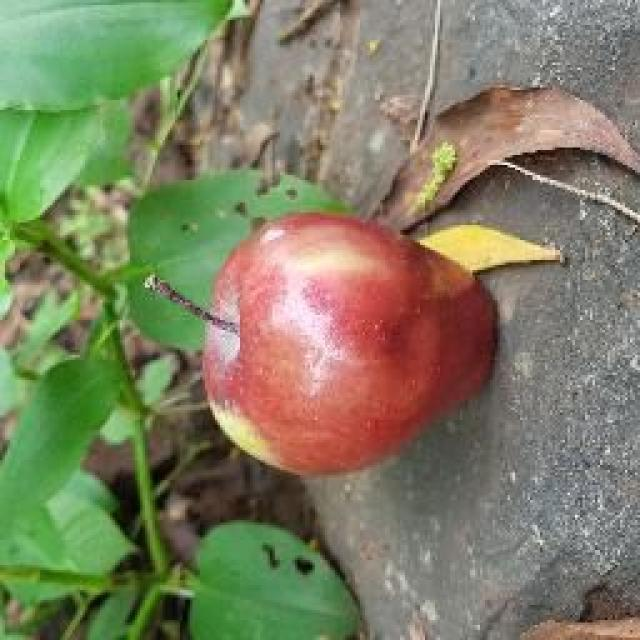Good_Apple: (202, 212, 498, 480)
